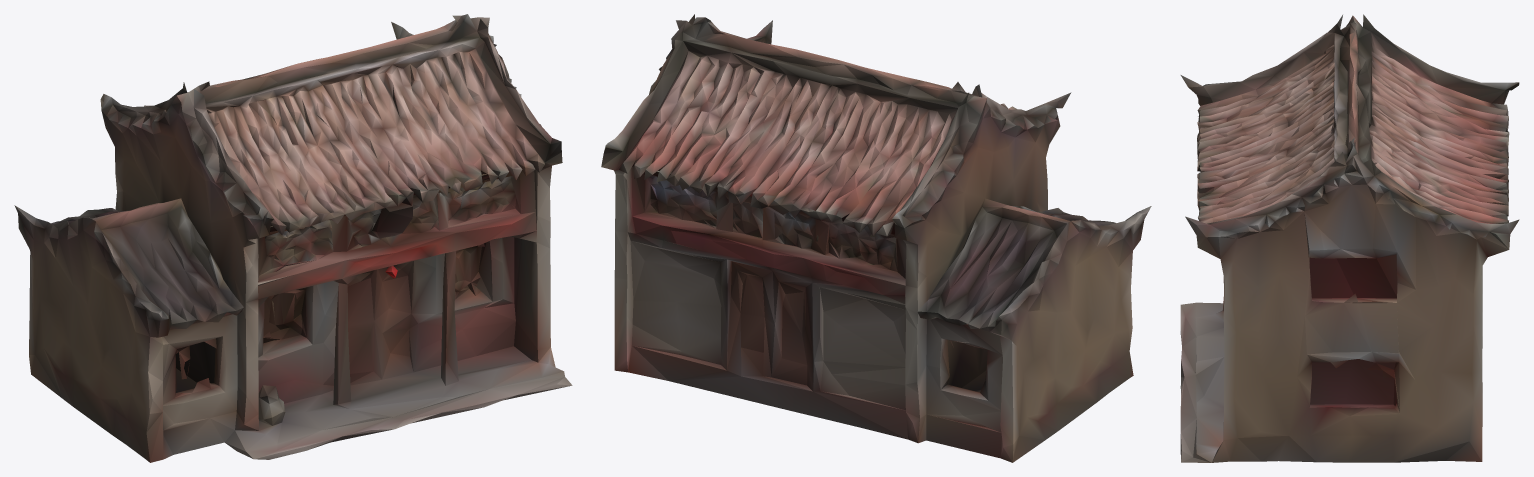
Rendered from bq_inn.vc.glb.
3 renders of one model, left to right at view 1: azimuth 30°, elevation 25°; view 2: azimuth 150°, elevation 25°; view 3: azimuth 270°, elevation 25°, orthographic.
Visible parts, largest first — view 1: bq_inn; view 2: bq_inn; view 3: bq_inn.
Boxes of the visible parts, box(x1,y1,x2,y2) form: bq_inn: box(14, 14, 572, 462); bq_inn: box(601, 14, 1151, 462); bq_inn: box(1180, 14, 1519, 462).
Size of the model in its own units: 1.91 by 1.42 by 1.41.
